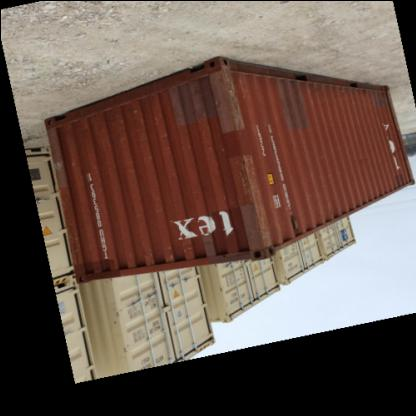Damage: (210, 66, 244, 132), (238, 200, 278, 254), (226, 154, 264, 204), (125, 101, 142, 126), (48, 158, 71, 176), (154, 138, 170, 160)
